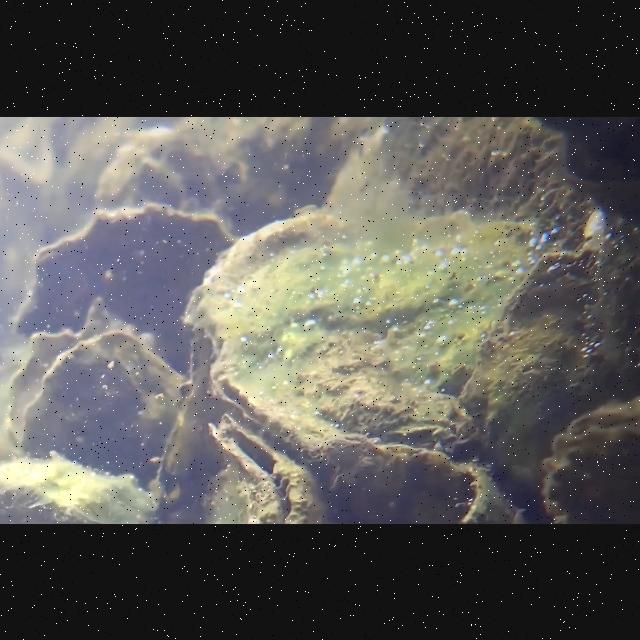Oyster-Closed: (456, 230, 640, 524), (12, 201, 236, 375), (94, 124, 234, 233), (0, 449, 156, 524)
Oyster-Open: (178, 208, 530, 456), (4, 295, 188, 493), (539, 395, 640, 524), (208, 412, 322, 524)
